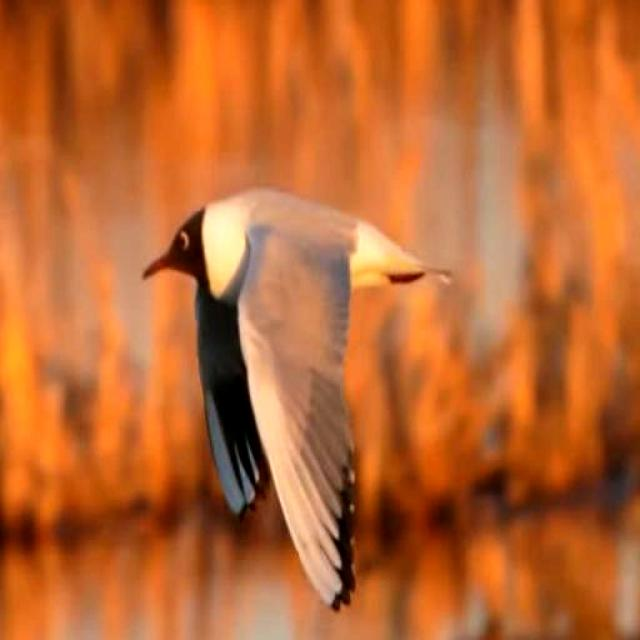airplane: (144, 188, 450, 624)
